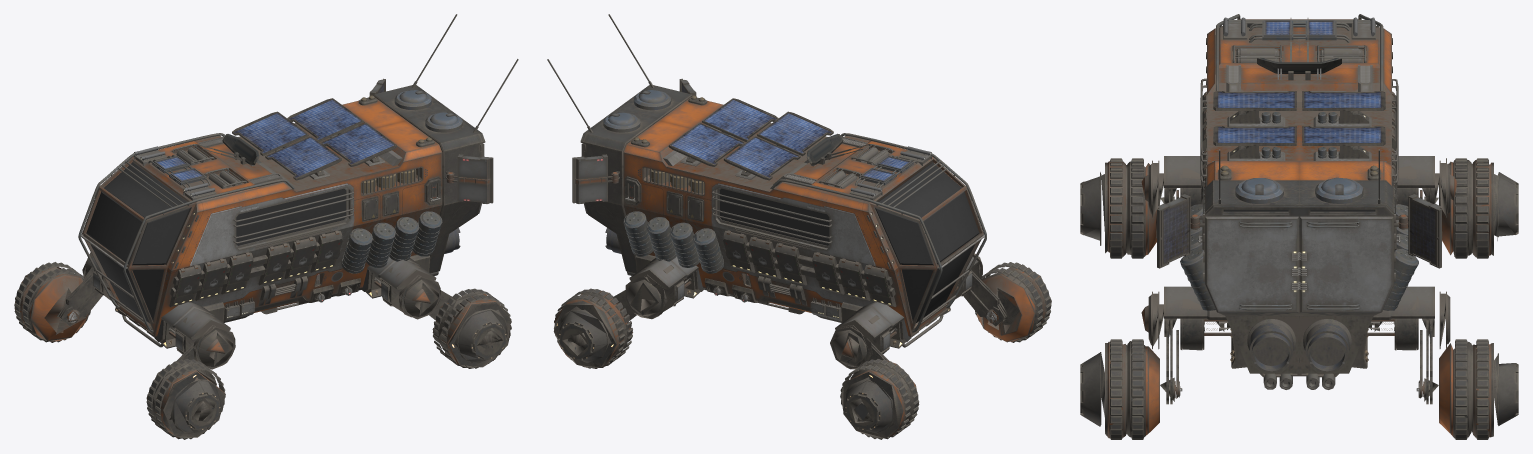
The model's file is rover-opt.glb.
3 renders of one model, left to right at view 1: azimuth 30°, elevation 25°; view 2: azimuth 150°, elevation 25°; view 3: azimuth 270°, elevation 25°, orthographic. The views are drawn at different scales.
Parts seen in each view (by area): view 1: Cube.001, Cylinder.008, Cylinder.011, Cylinder.004, Cylinder.010; view 2: Cube.001, Cylinder.008, Cylinder.011, Cylinder.004, Cylinder.010; view 3: Cube.001, Cylinder.011, Cylinder.008, Cylinder.010, Cylinder.004, Cylinder.006.
Boxes of the visible parts, x1,y1,x2,y2 form: Cube.001: [78, 14, 518, 347]; Cylinder.008: [14, 262, 225, 439]; Cylinder.011: [429, 288, 511, 368]; Cylinder.004: [82, 252, 235, 369]; Cylinder.010: [360, 255, 440, 319]; Cube.001: [547, 14, 986, 347]; Cylinder.008: [840, 262, 1051, 439]; Cylinder.011: [553, 288, 636, 368]; Cylinder.004: [830, 253, 982, 369]; Cylinder.010: [625, 255, 705, 319]; Cube.001: [1156, 14, 1442, 389]; Cylinder.011: [1080, 318, 1518, 439]; Cylinder.008: [1080, 158, 1518, 258]; Cylinder.010: [1141, 286, 1450, 368]; Cylinder.004: [1141, 156, 1457, 218]; Cylinder.006: [1247, 319, 1351, 372].
Size of the model in its own units: 1300 by 804 by 943.
2 materials, 2 textured.
